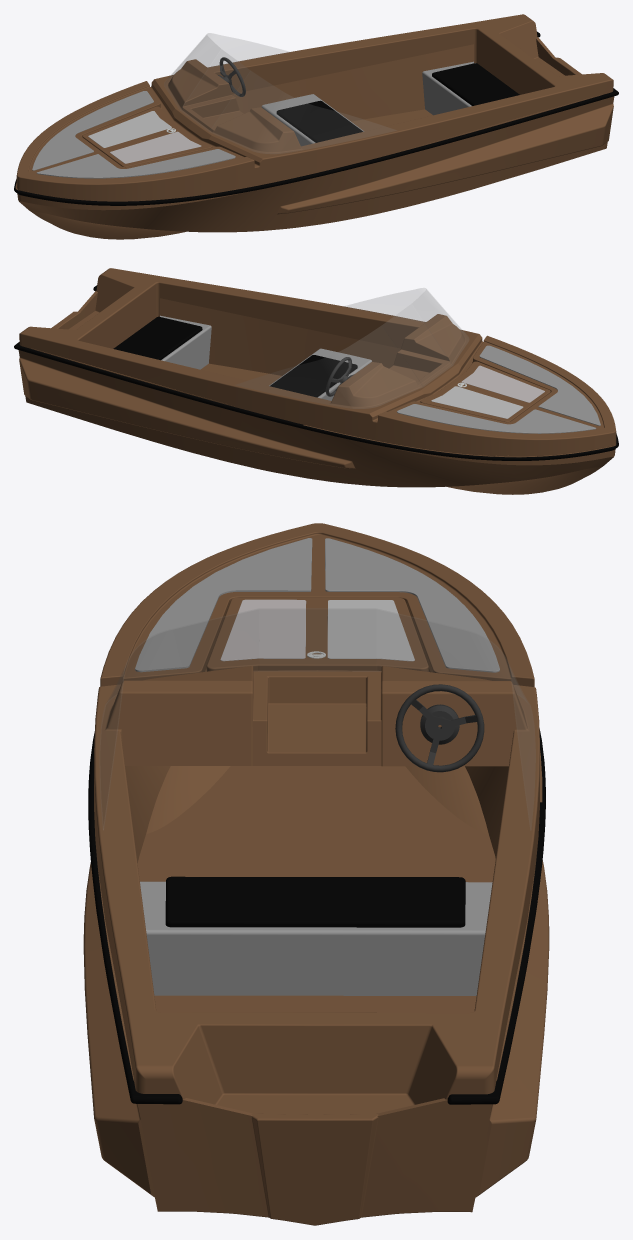
3 views of the same model, one above another, from view 1: azimuth 30°, elevation 25°; view 2: azimuth 150°, elevation 25°; view 3: azimuth 270°, elevation 25° (orthographic). The views are drawn at different scales.
Parts seen in each view (by area): view 1: Solid_1779, Solid_1789, Solid_1788, Solid_1775, Solid_1786, Solid_1787, Solid_1773, Solid_1770, Solid_1776, Solid.002, Solid_1771, Solid_1772 (+4 smaller); view 2: Solid_1779, Solid_1789, Solid_1786, Solid_1788, Solid_1775, Solid_1787, Solid_1770, Solid_1773, Solid_1776, Solid.002, Solid_1771, Solid_1772 (+4 smaller); view 3: Solid_1779, Solid_1789, Solid.001, Solid.002, Solid_1773, Solid_1770, Solid_1786, Solid_1788, Solid_1787, Solid_1775, Solid_1771, Solid_1772 (+2 smaller).
Boxes of the visible parts, box(x1,y1,x2,y2) form: Solid_1779: box(15, 14, 613, 201); Solid_1789: box(16, 37, 614, 239); Solid_1788: box(210, 71, 395, 153); Solid_1775: box(14, 31, 618, 205); Solid_1786: box(164, 33, 288, 109); Solid_1787: box(180, 49, 249, 130); Solid_1773: box(36, 149, 235, 178); Solid_1770: box(32, 91, 153, 170); Solid_1776: box(432, 63, 519, 105); Solid.002: box(276, 100, 363, 142); Solid_1771: box(82, 106, 212, 167); Solid_1772: box(88, 111, 171, 147); Solid_1779: box(19, 268, 616, 457); Solid_1789: box(18, 291, 616, 494); Solid_1786: box(237, 326, 422, 408); Solid_1788: box(344, 288, 468, 364); Solid_1775: box(14, 285, 618, 460); Solid_1787: box(382, 304, 452, 386); Solid_1770: box(397, 404, 596, 433); Solid_1773: box(479, 345, 600, 425); Solid_1776: box(113, 316, 202, 360); Solid.002: box(270, 355, 357, 397); Solid_1771: box(420, 361, 550, 422); Solid_1772: box(431, 386, 523, 418); Solid_1779: box(94, 523, 542, 1114); Solid_1789: box(83, 766, 549, 1225); Solid.001: box(140, 881, 492, 995); Solid.002: box(165, 876, 465, 927); Solid_1773: box(135, 538, 312, 672); Solid_1770: box(325, 538, 499, 672); Solid_1786: box(377, 609, 535, 828); Solid_1788: box(100, 609, 259, 829); Solid_1787: box(259, 609, 375, 671); Solid_1775: box(88, 728, 545, 1104); Solid_1771: box(206, 597, 428, 671); Solid_1772: box(327, 600, 414, 661).
Bounding box in the file's own units: 4334 × 1190 × 1567.
